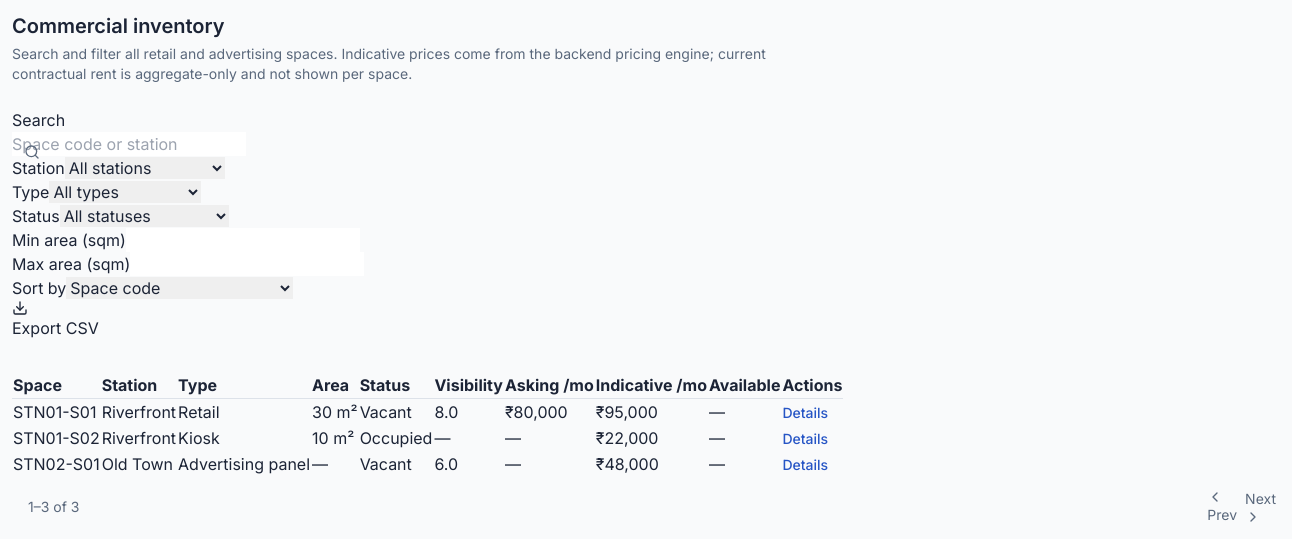
it: InventoryPage › filters rows by the search box
Expected: the text "STN01-S01" is shown, [12,398,101,425]
In the field labelled "Search": (129, 144) [12,132,246,156], type "STN02"
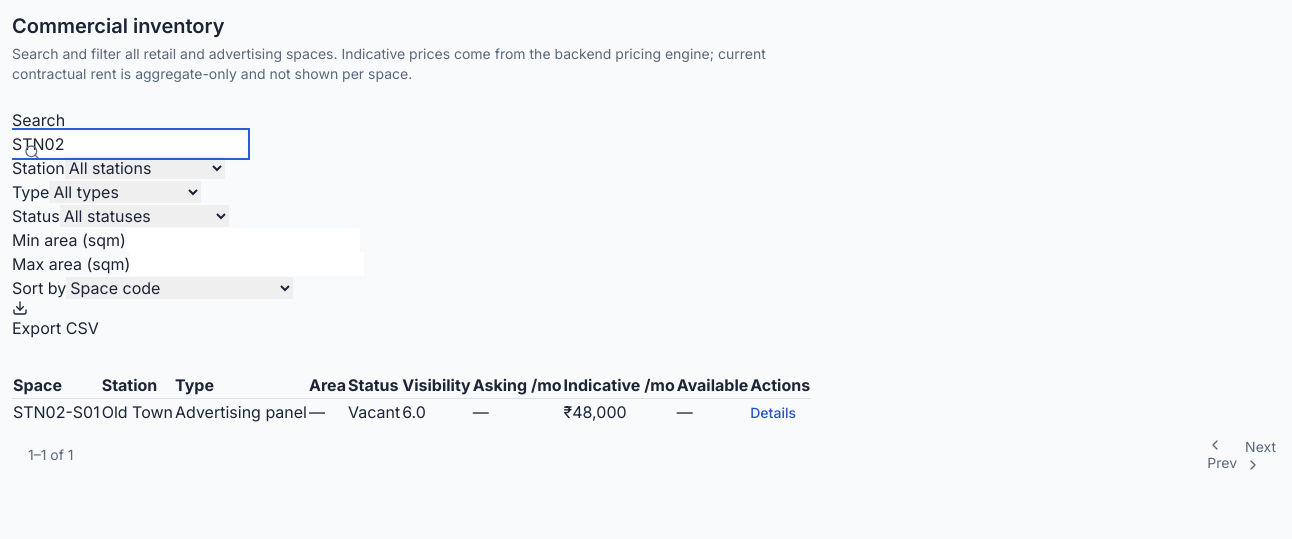
Expected: the text "STN02-S01" is shown, [12,398,101,425]
Expected: the text "STN01-S01" is gone
